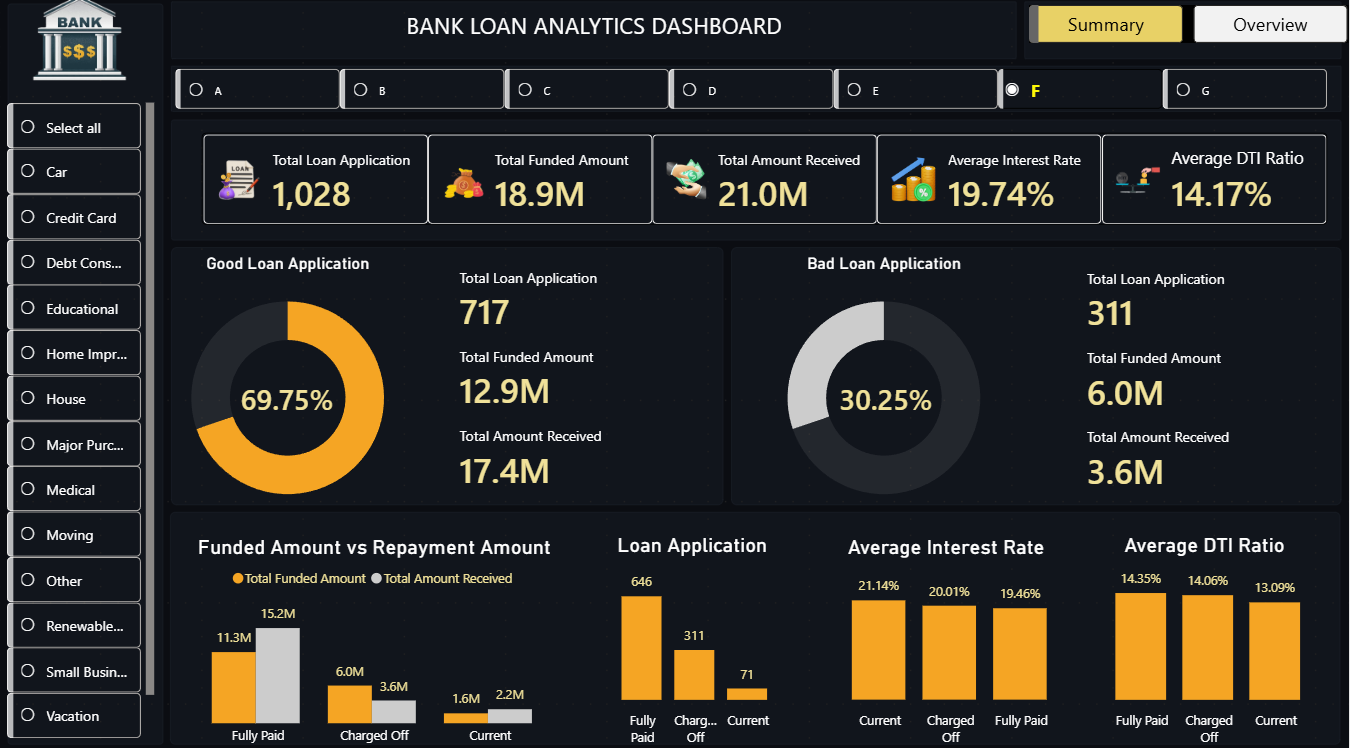

What the dashboard file says about the page in this screenshot:
{"tool":"powerbi","page":{"name":"Summary","canvas":[1280,720],"ordinal":0},"visuals":[{"type":"cardVisual","fields":{"Data":["financial_loan.Total Loan Application","financial_loan.Total Funded Amount","financial_loan.Total Amount Received","financial_loan.Average Interest Rate","financial_loan.Average DTI Ratio"]},"box":[175.3,114.1,1104.7,121],"z":0},{"type":"donutChart","title":"Good Loan Application","fields":{"Y":["financial_loan.Total Loan Application"],"Category":["financial_loan.good_vs_bad"]},"box":[44.5,244.9,457.7,256],"z":1000},{"type":"cardVisual","fields":{"Data":["financial_loan.Good Loan %"]},"box":[200.3,347.8,160,68.2],"z":2000},{"type":"cardVisual","fields":{"Data":["financial_loan.Bad Loan %"]},"box":[768,347.8,160,68.2],"z":3000},{"type":"donutChart","title":"Bad Loan Application","fields":{"Y":["financial_loan.Total Loan Application"],"Category":["financial_loan.good_vs_bad"]},"box":[610.8,244.9,457.7,256],"z":4000},{"type":"cardVisual","fields":{"Data":["financial_loan.Total Loan Application","financial_loan.Total Funded Amount","financial_loan.Total Amount Received"],"Rows":["financial_loan.good_vs_bad"]},"box":[407.7,185,232.3,327],"z":5000},{"type":"cardVisual","fields":{"Data":["financial_loan.Total Loan Application","financial_loan.Total Funded Amount","financial_loan.Total Amount Received"],"Rows":["financial_loan.good_vs_bad"]},"box":[1003.1,186.4,232.3,327],"z":6000},{"type":"clusteredColumnChart","title":"Funded Amount vs Repayment Amount","fields":{"Category":["financial_loan.LOAN_STATUS"],"Y":["financial_loan.Total Funded Amount","financial_loan.Total Amount Received"]},"box":[153,512,406.3,208.7],"z":7000},{"type":"clusteredColumnChart","title":"Loan Application","fields":{"Category":["financial_loan.LOAN_STATUS"],"Y":["financial_loan.Total Loan Application"]},"box":[559.3,510.6,196.2,208.7],"z":8000},{"type":"clusteredColumnChart","title":"Average Interest Rate","fields":{"Category":["financial_loan.LOAN_STATUS"],"Y":["financial_loan.Average Interest Rate"]},"box":[768,512,260.2,207.3],"z":9000},{"type":"clusteredColumnChart","title":"Average DTI Ratio","fields":{"Category":["financial_loan.LOAN_STATUS"],"Y":["financial_loan.Average DTI Ratio"]},"box":[1019.8,510.6,247.7,208.7],"z":10000},{"type":"image","box":[0,0,153,80.7],"z":11000},{"type":"shape","box":[162.8,0,804.2,55.7],"z":12000},{"type":"advancedSlicerVisual","fields":{"Values":["financial_loan.PURPOSE"]},"box":[2.8,96.7,150.3,623.3],"z":13000},{"type":"advancedSlicerVisual","fields":{"Values":["financial_loan.GRADE"]},"box":[162.8,65.4,1104.7,48.7],"z":14000},{"type":"pageNavigator","box":[976.7,9.7,303.3,36.2],"z":15000}]}

Visuals, with their boxes in screenshot pixels (x1, y1, x2, y2), scaled from the page's 1280x720 canvas onto the 1350x748 screenshot:
cardVisual - financial_loan.Total Loan Application x financial_loan.Total Funded Amount: 185/119/1349/244
"Good Loan Application" donutChart: 47/254/530/520
cardVisual - financial_loan.Good Loan %: 211/361/380/432
cardVisual - financial_loan.Bad Loan %: 810/361/979/432
"Bad Loan Application" donutChart: 644/254/1127/520
cardVisual - financial_loan.Total Loan Application x financial_loan.Total Funded Amount: 430/192/675/532
cardVisual - financial_loan.Total Loan Application x financial_loan.Total Funded Amount: 1058/194/1303/533
"Funded Amount vs Repayment Amount" clusteredColumnChart: 161/532/590/747
"Loan Application" clusteredColumnChart: 590/530/797/747
"Average Interest Rate" clusteredColumnChart: 810/532/1084/747
"Average DTI Ratio" clusteredColumnChart: 1076/530/1337/747
image: 0/0/161/84
shape: 172/0/1020/58
advancedSlicerVisual - financial_loan.PURPOSE: 3/100/161/747
advancedSlicerVisual - financial_loan.GRADE: 172/68/1337/119
pageNavigator: 1030/10/1349/48
